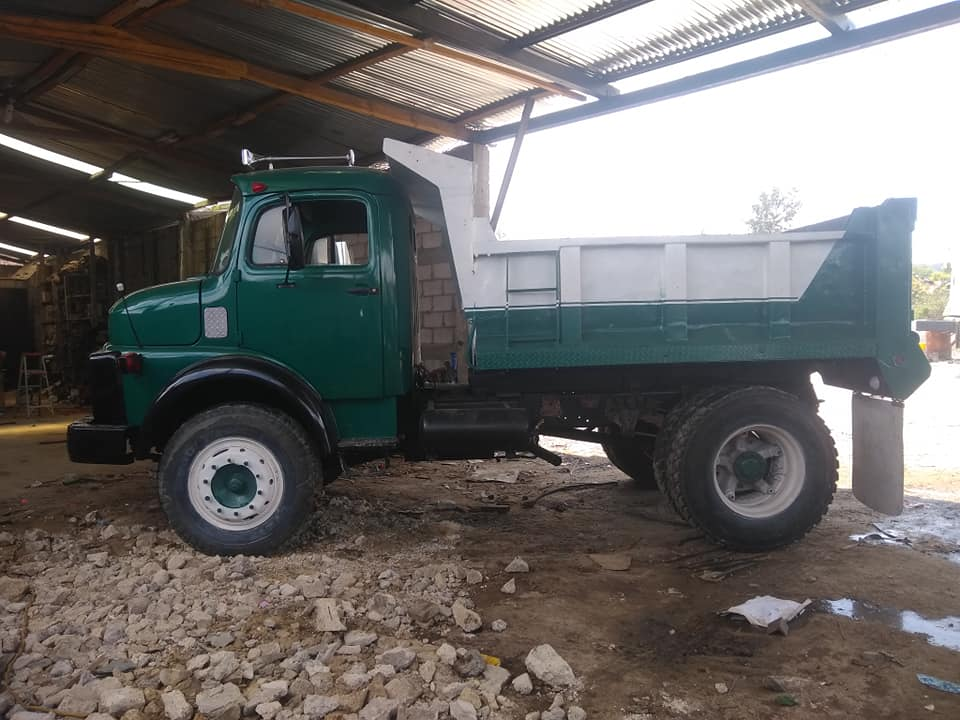camion: (61, 131, 933, 556)
